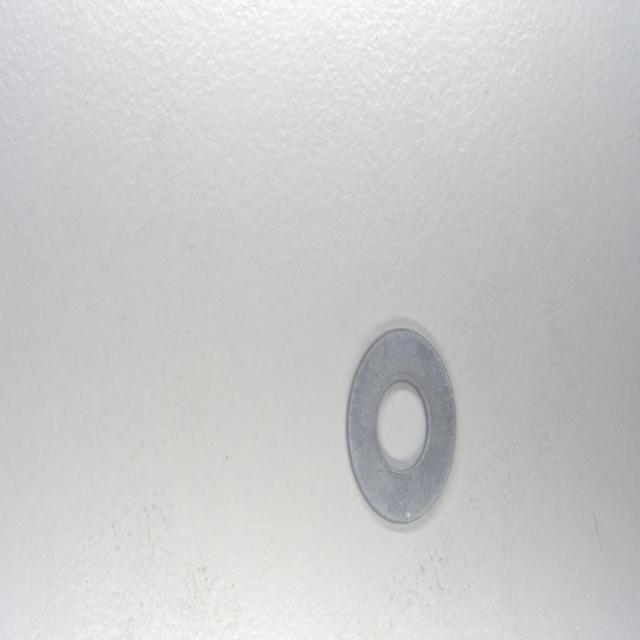washer: (344, 324, 458, 528)
